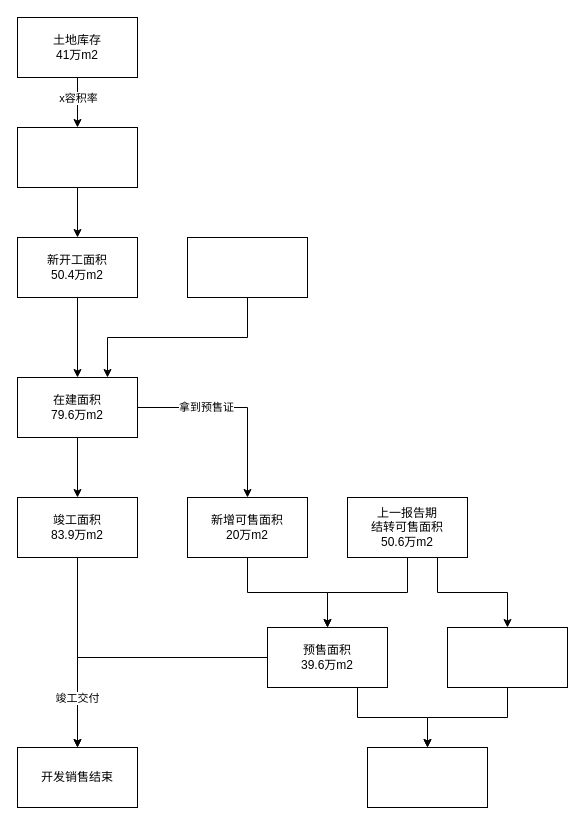
Some shapes in this 585 by 825 pixel diagram are drawn without their labels. Each missing label, with the centre of its shape:
上一报告期 结转在建面积 29.2 万m2: [247,267]
可开发面积 66.2万m2: [77,157]
当前总销售面积: [427,777]
现售面积: [507,657]
